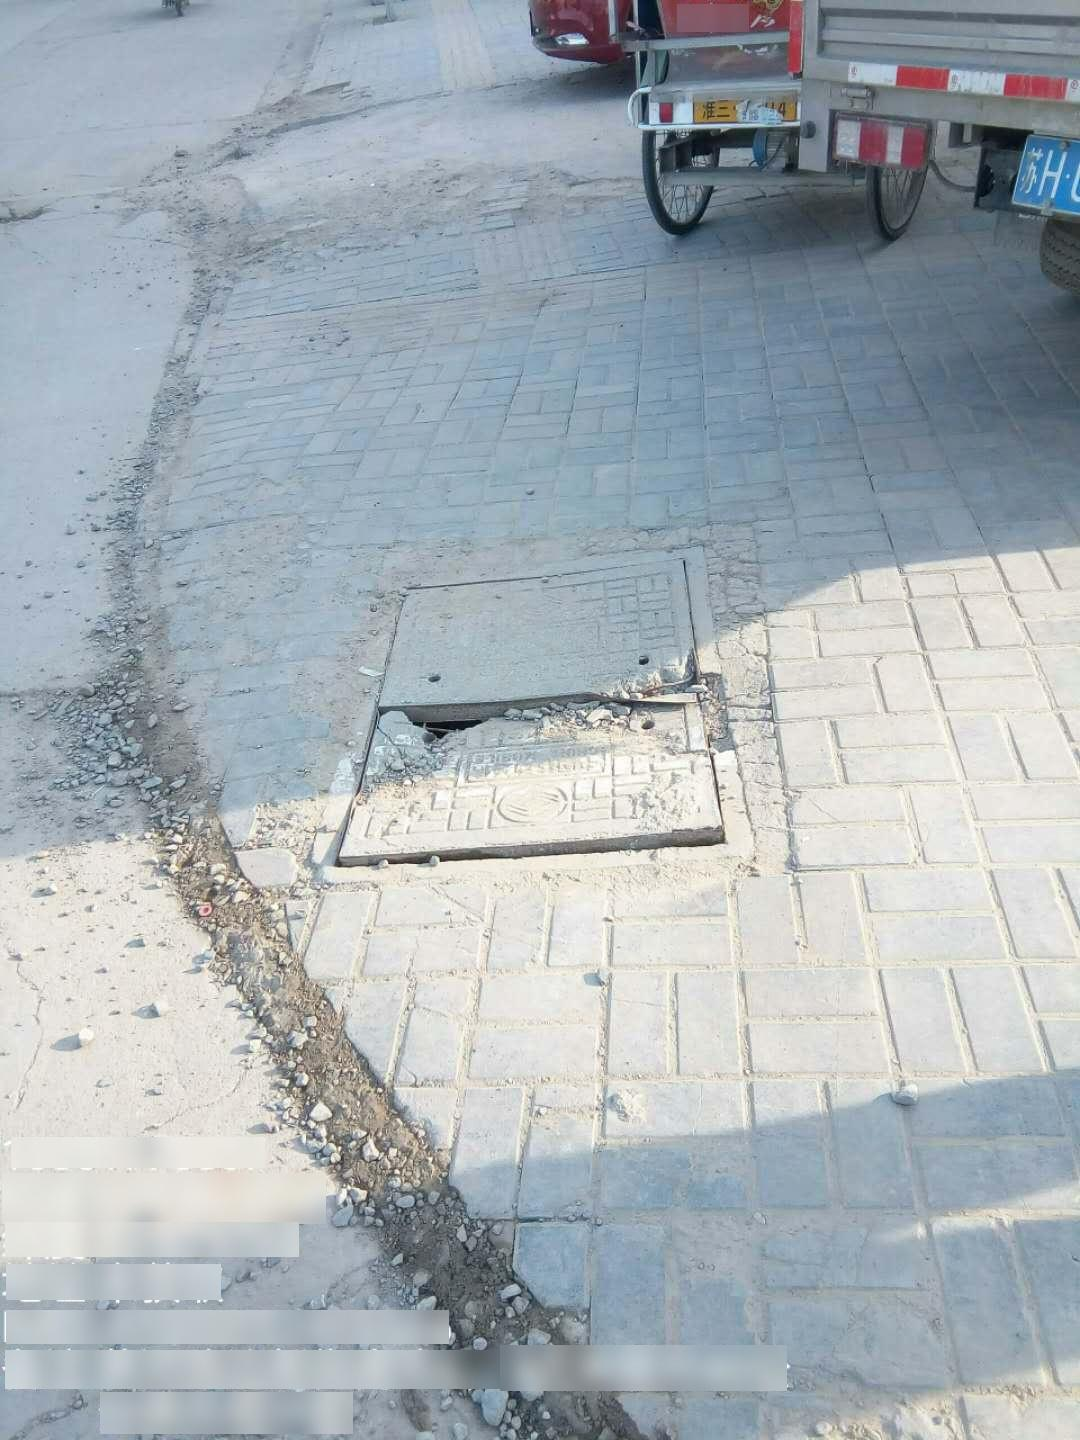wellcover: (340, 568, 758, 886)
